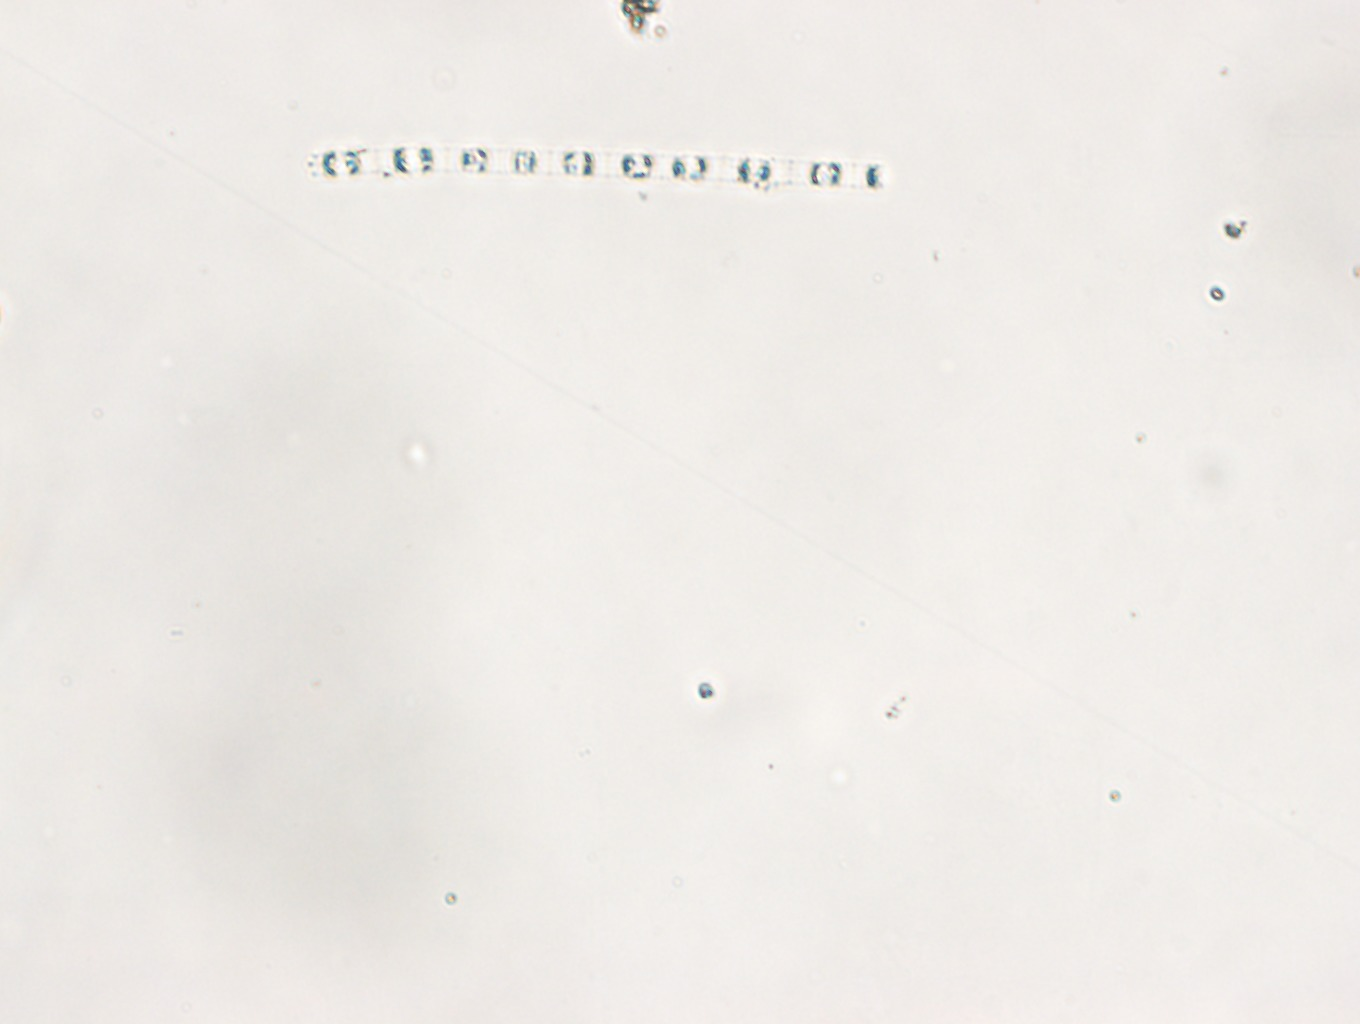skeletonema: (307, 142, 885, 189)
